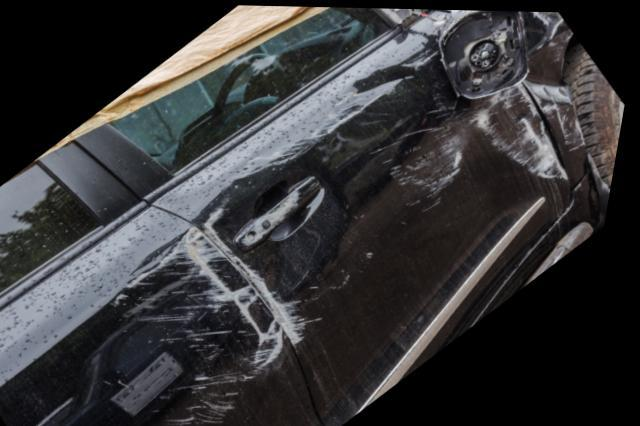rub: (120, 225, 304, 426), (379, 84, 572, 216), (523, 9, 574, 59)
scratch: (206, 201, 322, 343), (537, 88, 589, 147), (251, 191, 302, 249)
